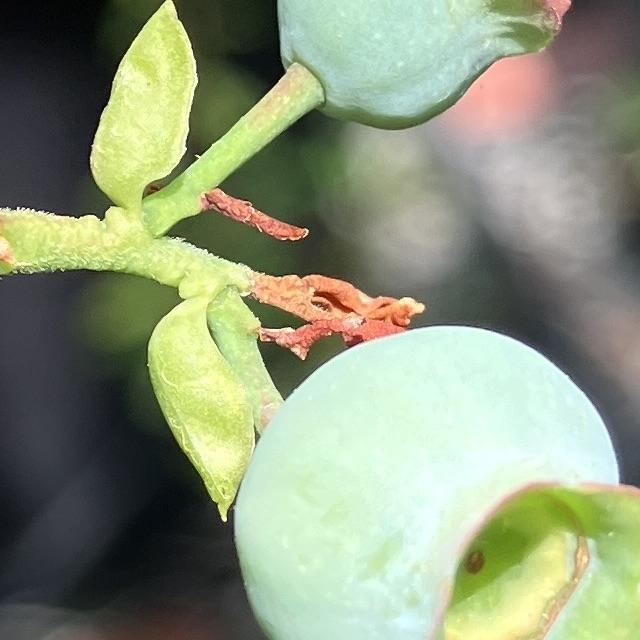Blueberries: (226, 318, 640, 640)
